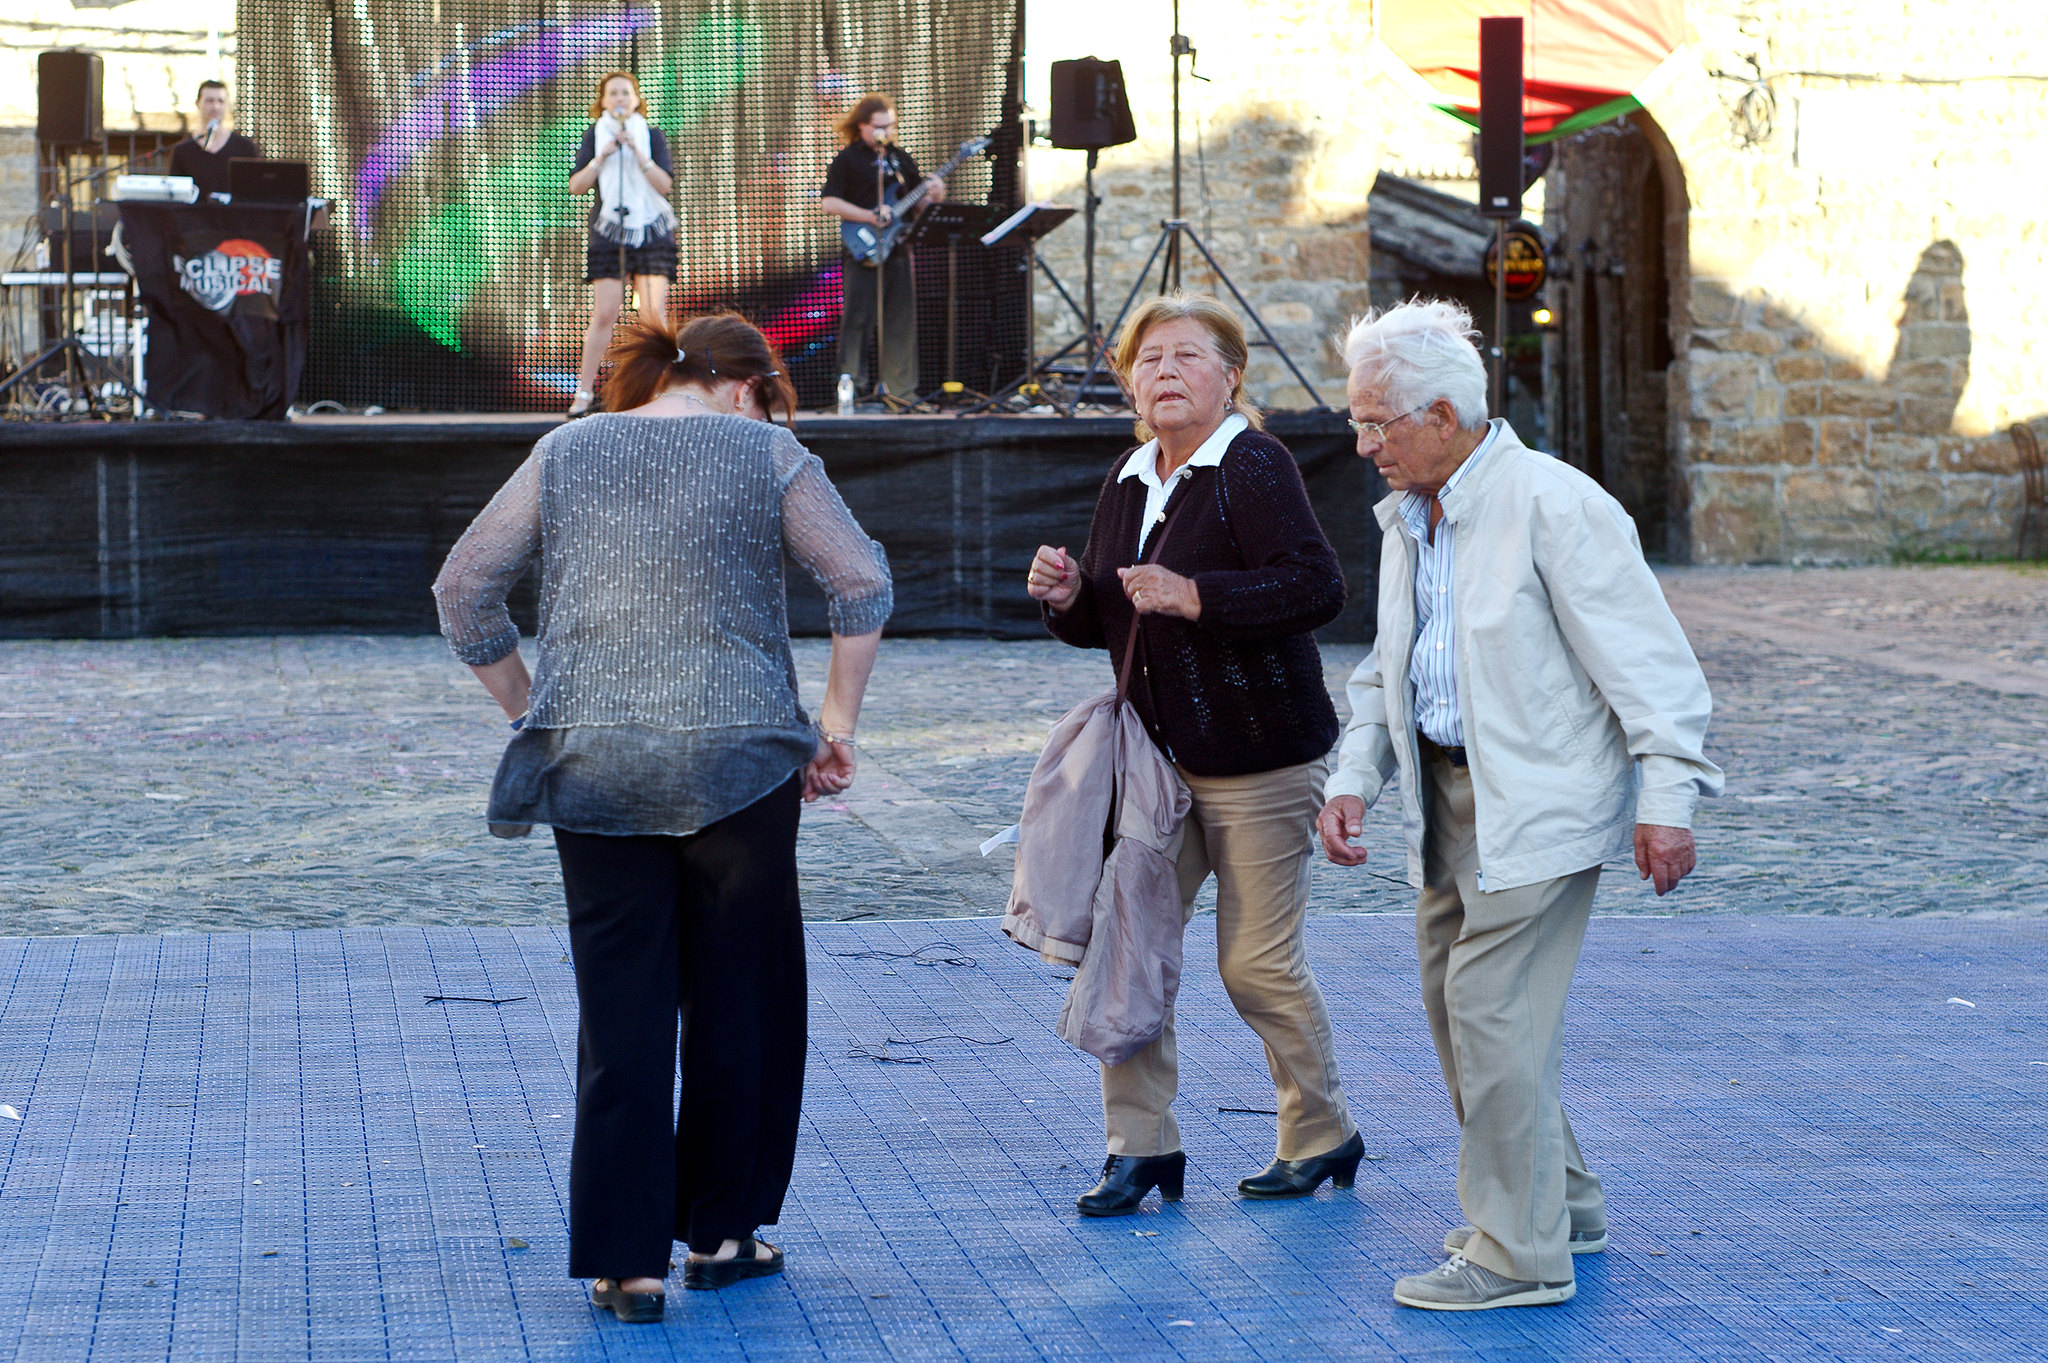person: (457, 308, 883, 1330), (1315, 307, 1721, 1311), (1011, 311, 1353, 1188), (825, 97, 955, 422), (575, 68, 697, 397), (165, 82, 273, 194)
